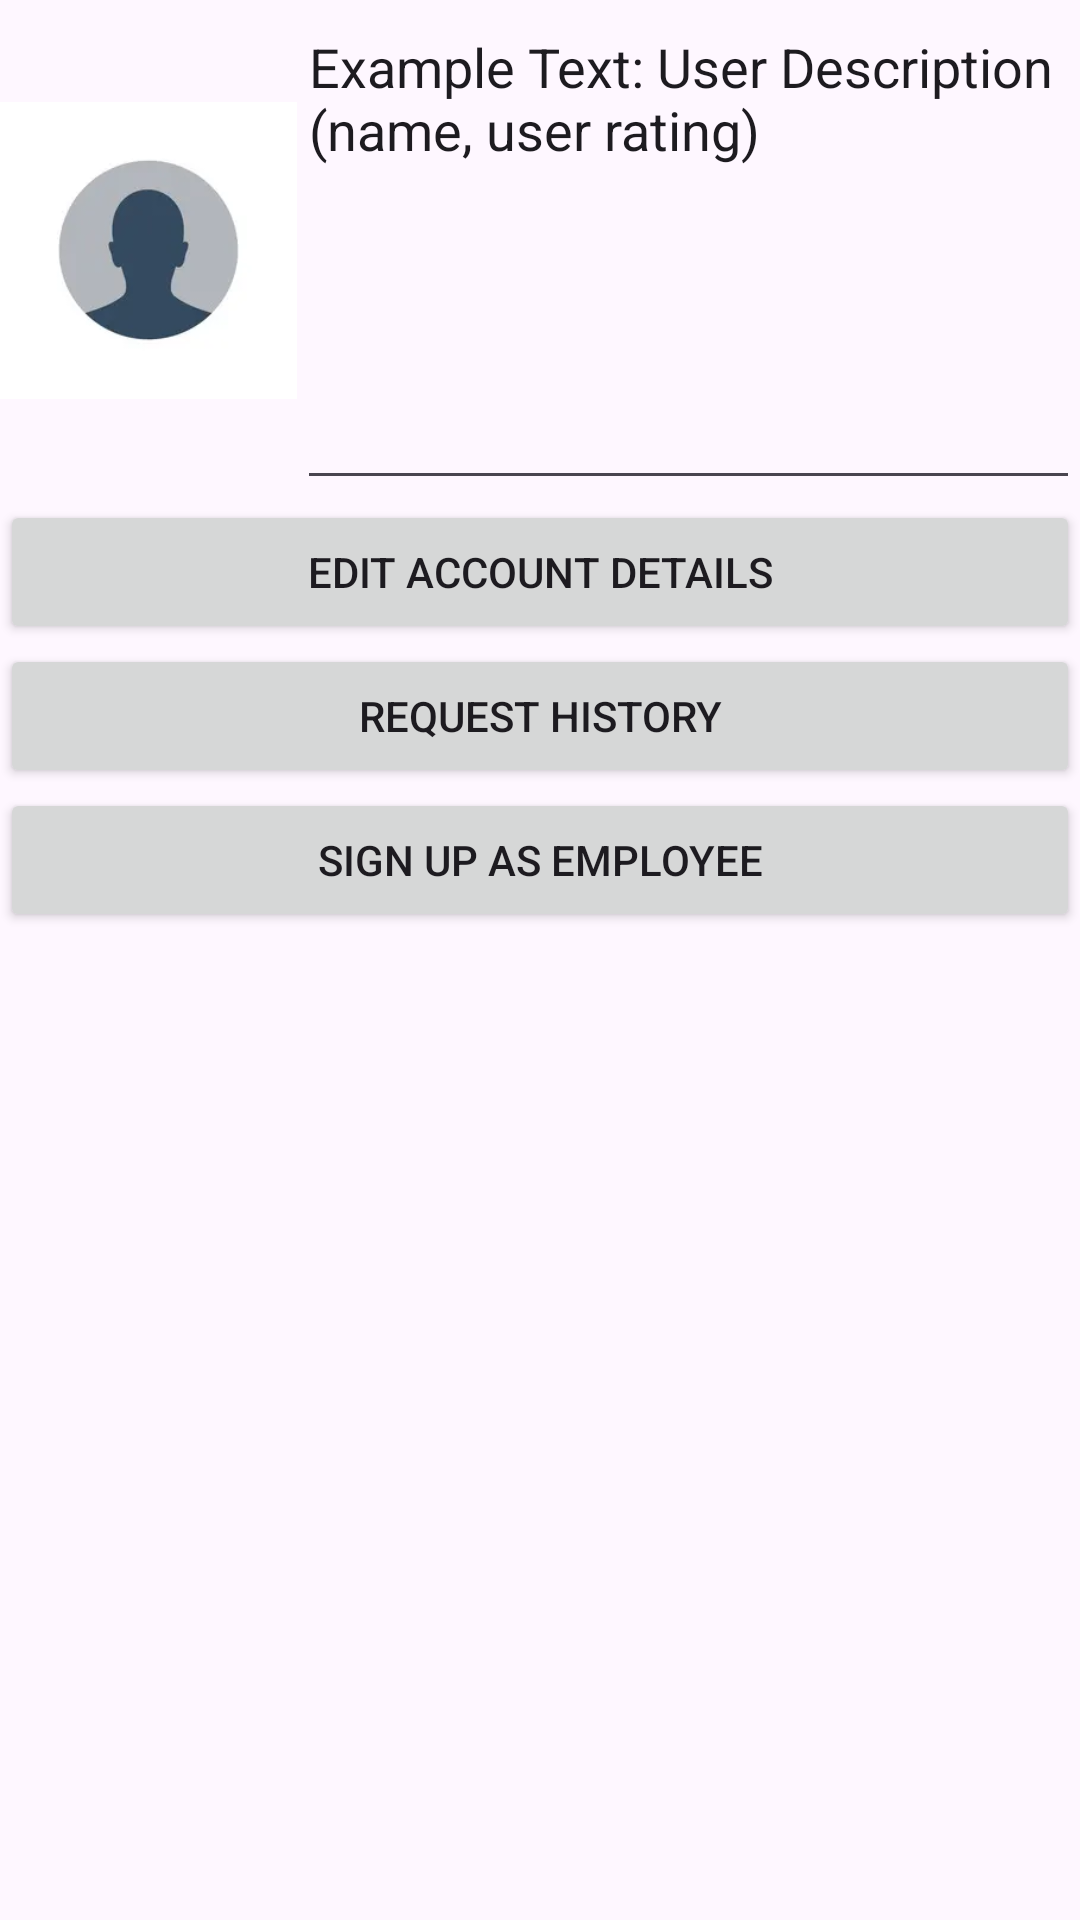

Icon bounding boxes for this 1080px×1920px phone screenshot, format [x1, y1, x2, y2]:
profilepicture: [59, 160, 238, 340]
